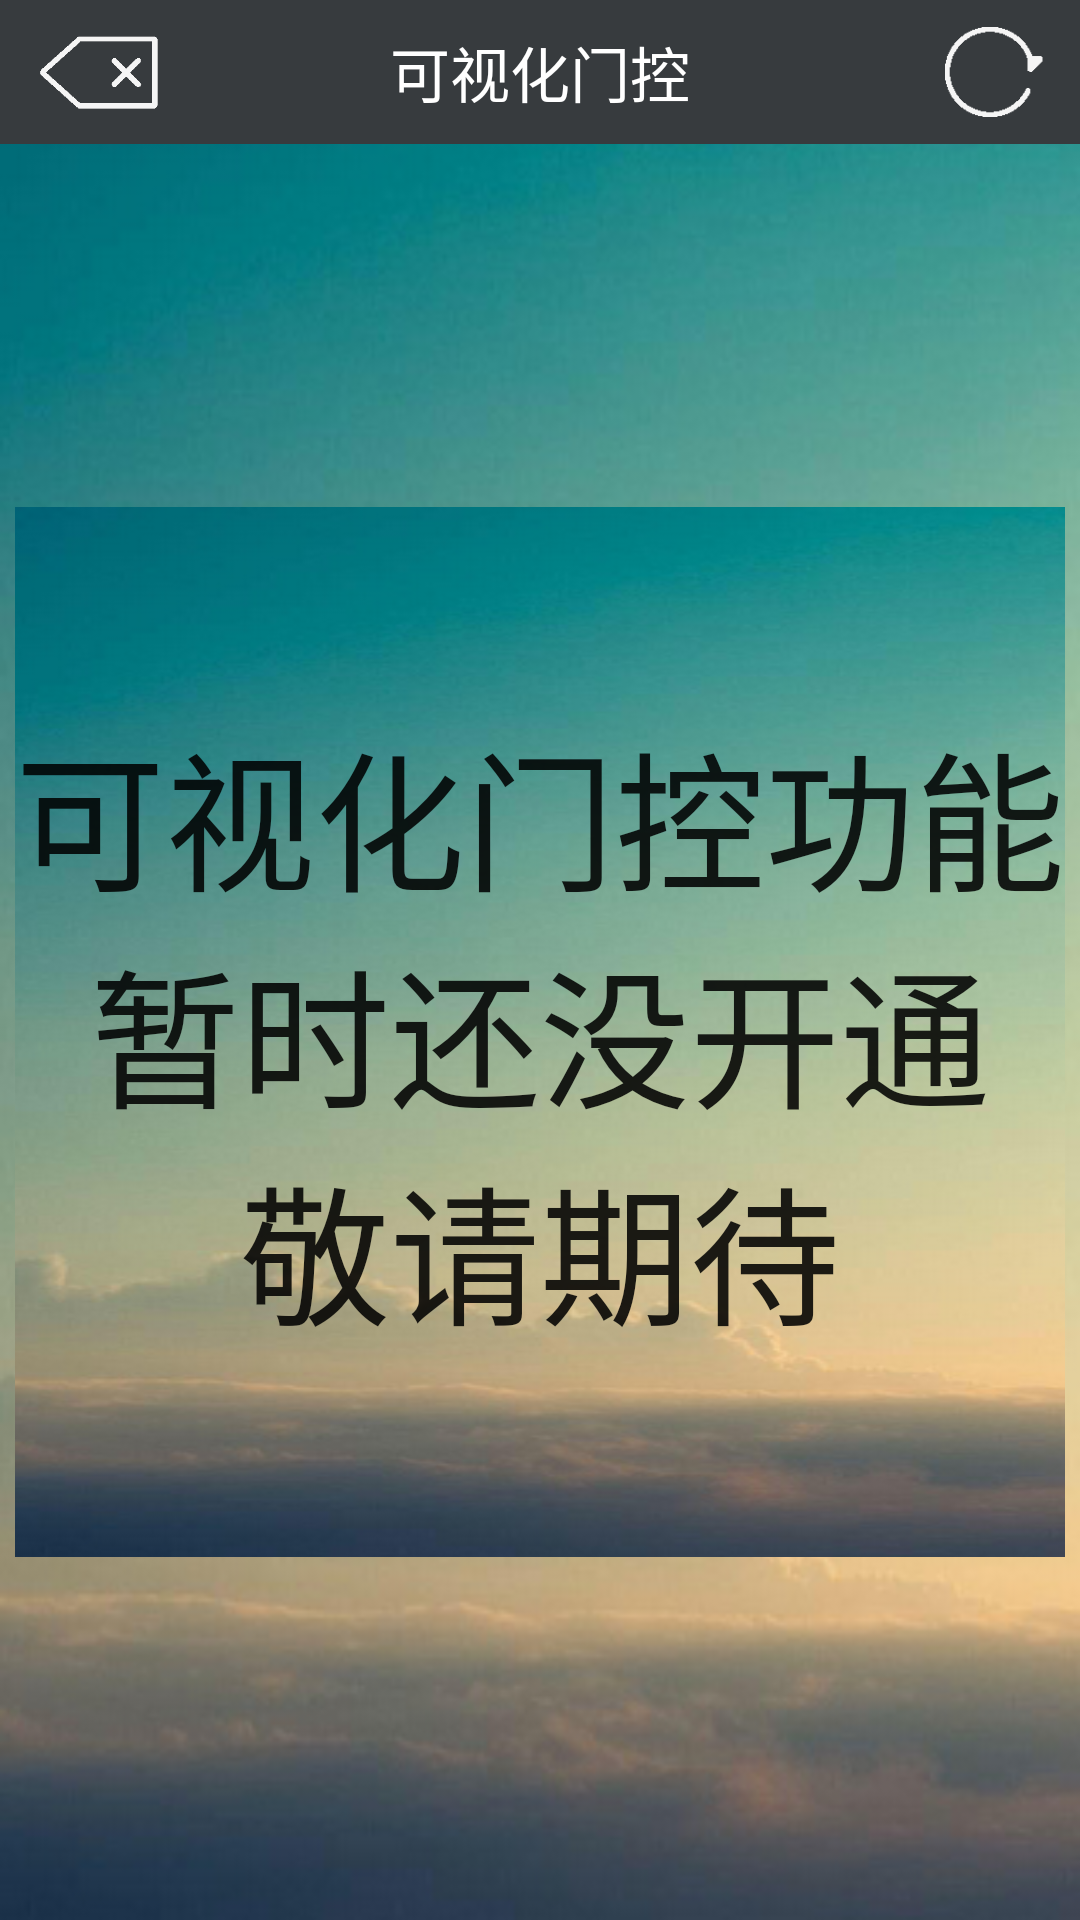

Screen size 1080*1920. Icon name, then its box in pixels as (x1, y1, x2, y2):
shuaxin: (945, 27, 1043, 117)
